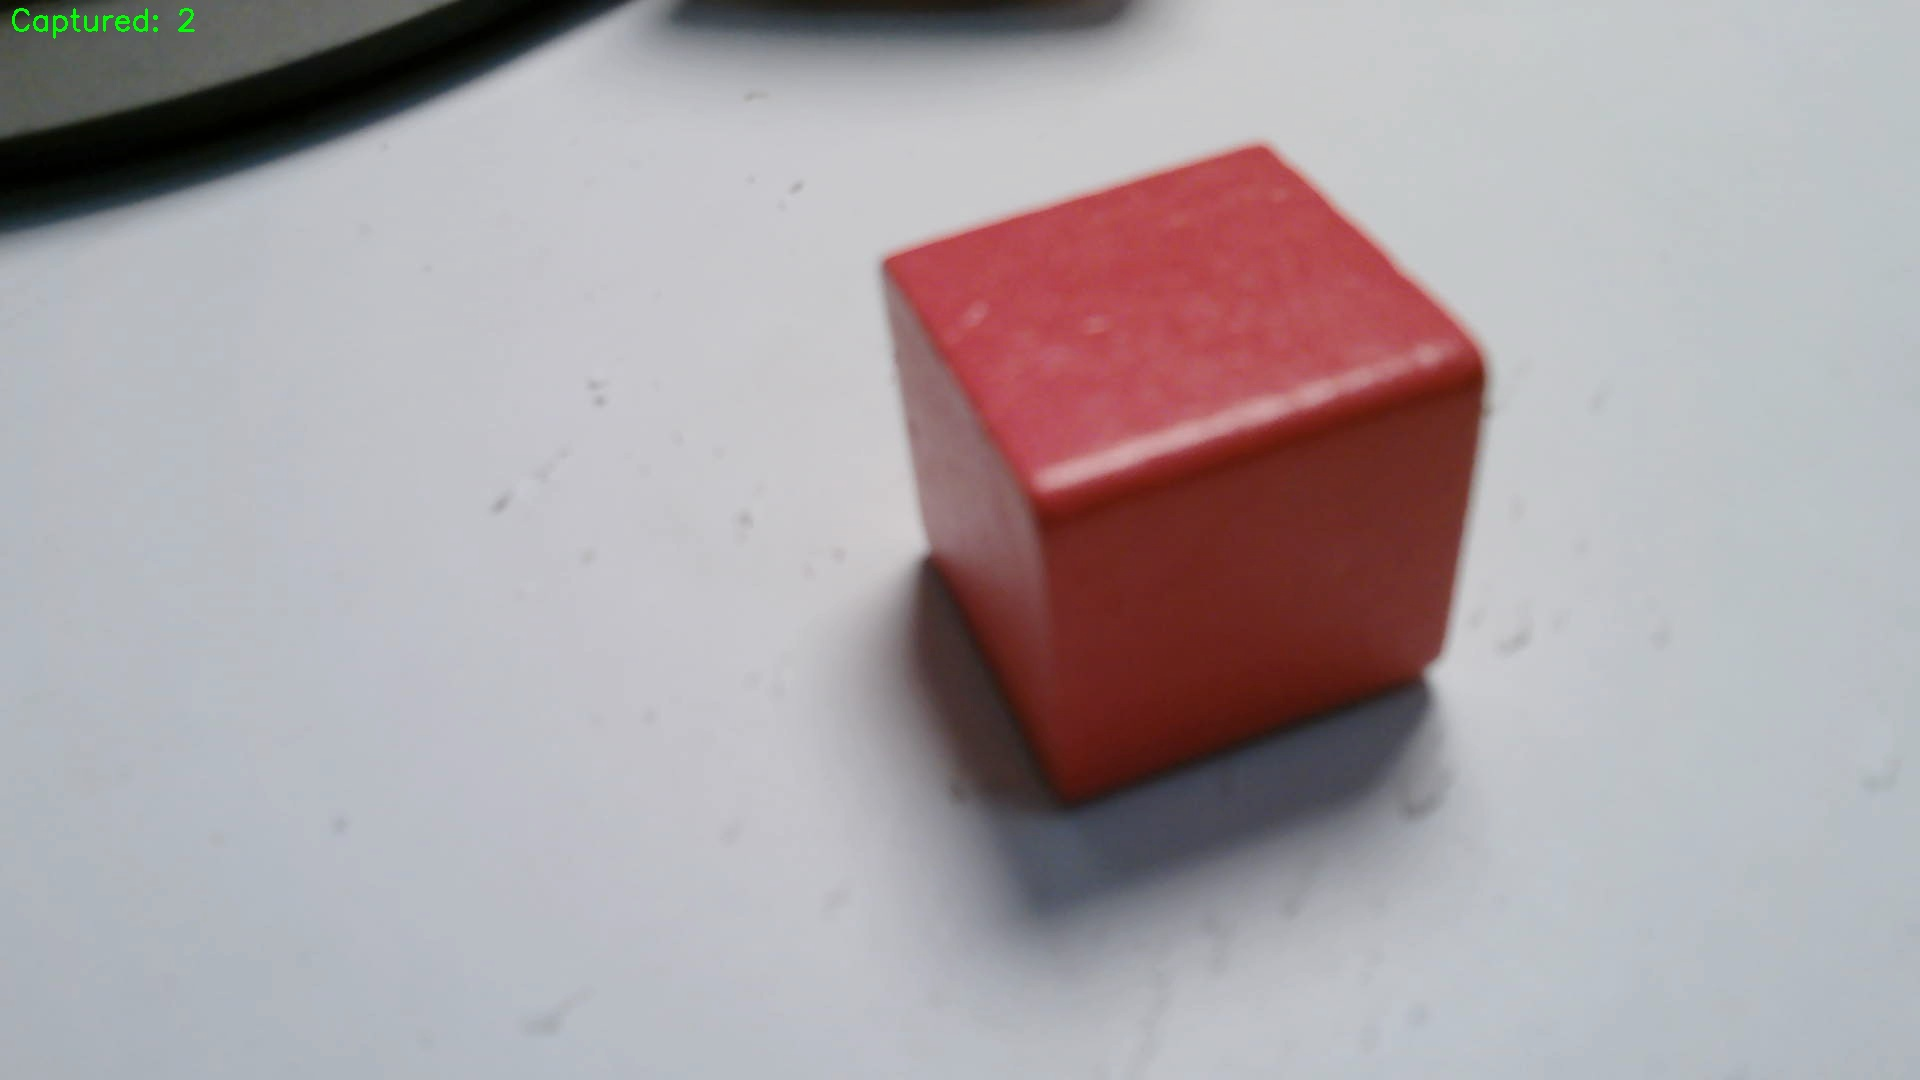red: (880, 148, 1487, 804)
